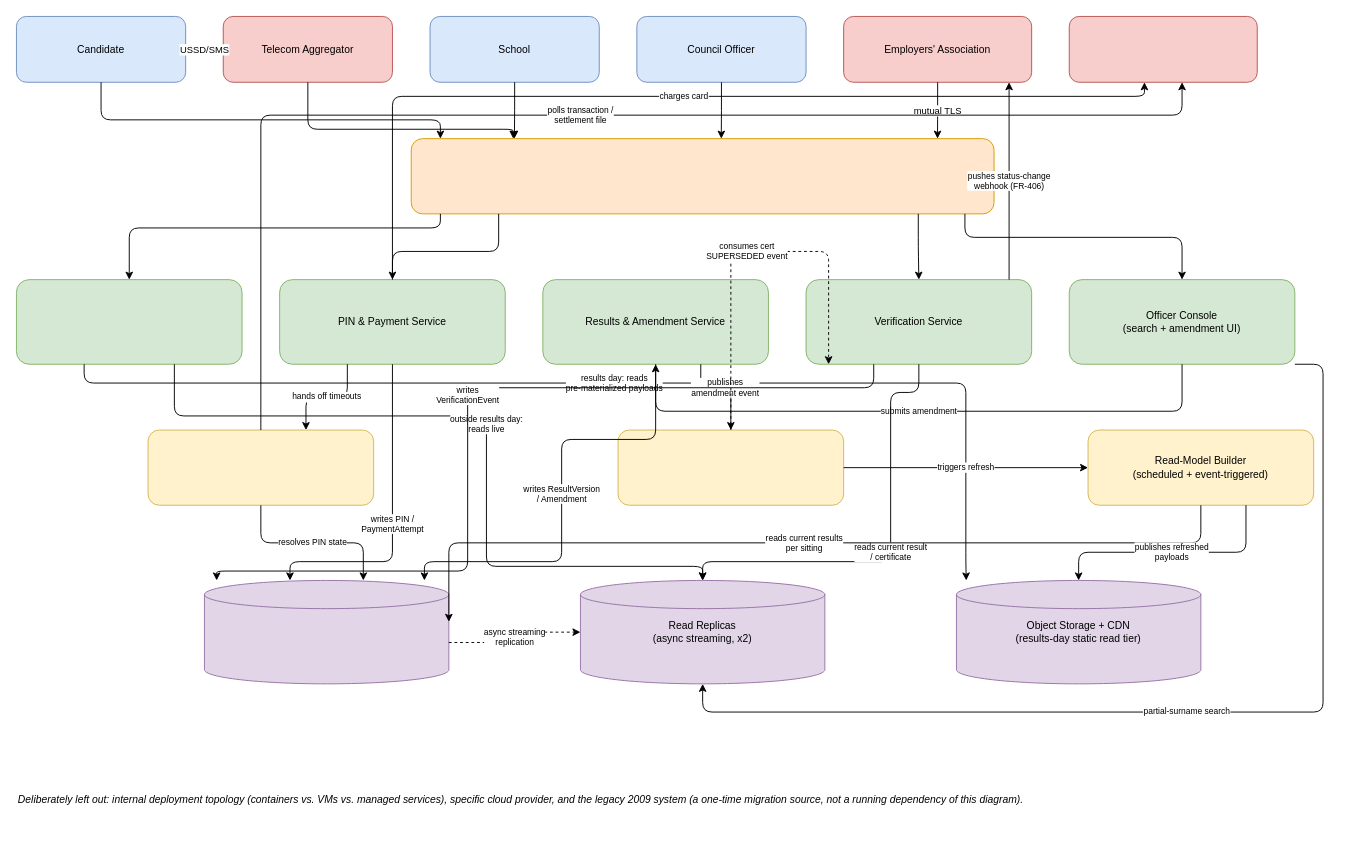
This 1347x860 diagram has some shape labels left out. Here are the shapes that lost their labels. From the top down, the centre of each, then its label:
point 1162,49: Payment Partner
point 702,176: API Gateway / Edge (TLS termination, auth, versioning, rate limiting)
point 129,321: Public Read Service (candidate check + school export)
point 260,467: Reconciliation Job
point 730,467: Message Broker (amendment events)
point 326,632: Primary Database (PostgreSQL, partitioned by sitting)
